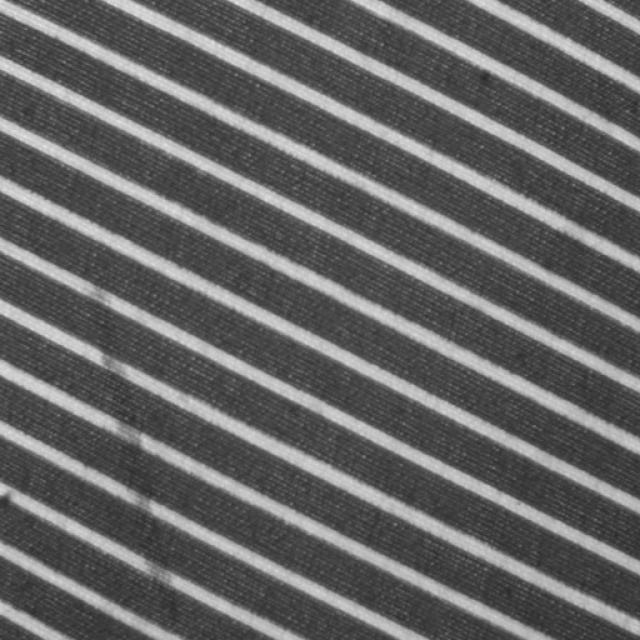Stain-Defect: (83, 263, 184, 639)
